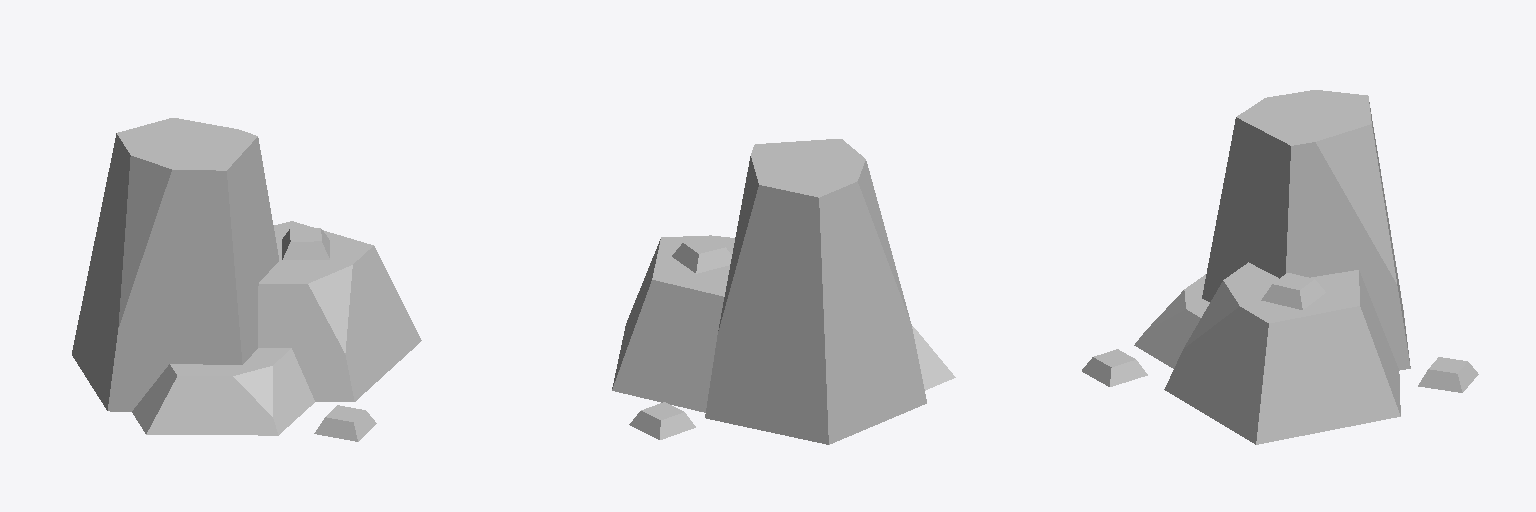
Rendered from rocka.obj.
3 views of the same model, side by side, from view 1: azimuth 30°, elevation 25°; view 2: azimuth 150°, elevation 25°; view 3: azimuth 270°, elevation 25° (orthographic).
Visible parts, largest first — view 1: rocka; view 2: rocka; view 3: rocka.
Boxes of the visible parts, x1,y1,x2,y2 form: rocka: [72, 118, 421, 441]; rocka: [612, 139, 955, 444]; rocka: [1082, 90, 1478, 444].
Size of the model in its own units: 0.5552 by 0.3927 by 0.6216.